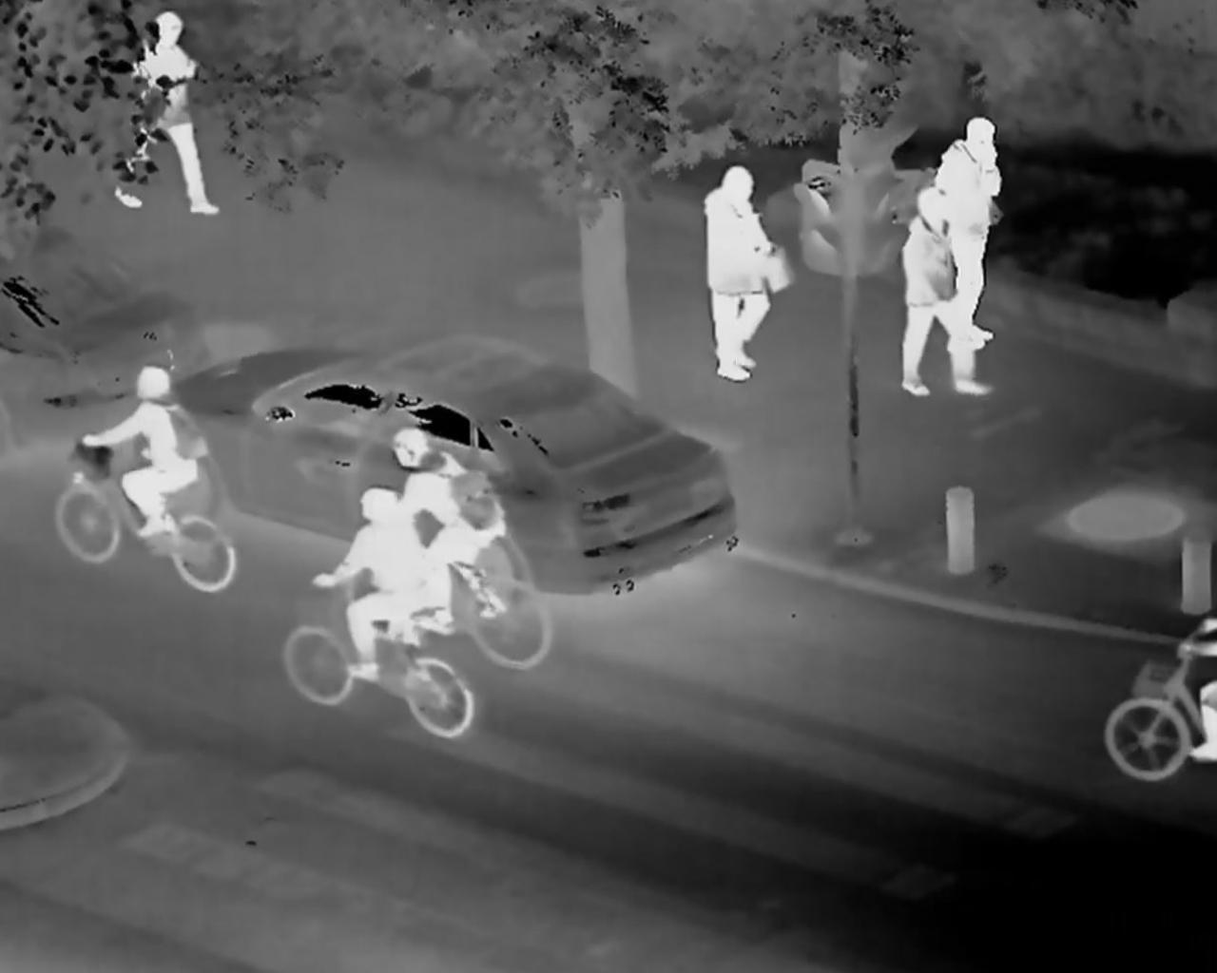person: (388, 428, 516, 642), (321, 488, 442, 693), (86, 370, 210, 541), (693, 166, 785, 387), (121, 13, 216, 220), (884, 169, 965, 397), (934, 107, 1003, 352)
